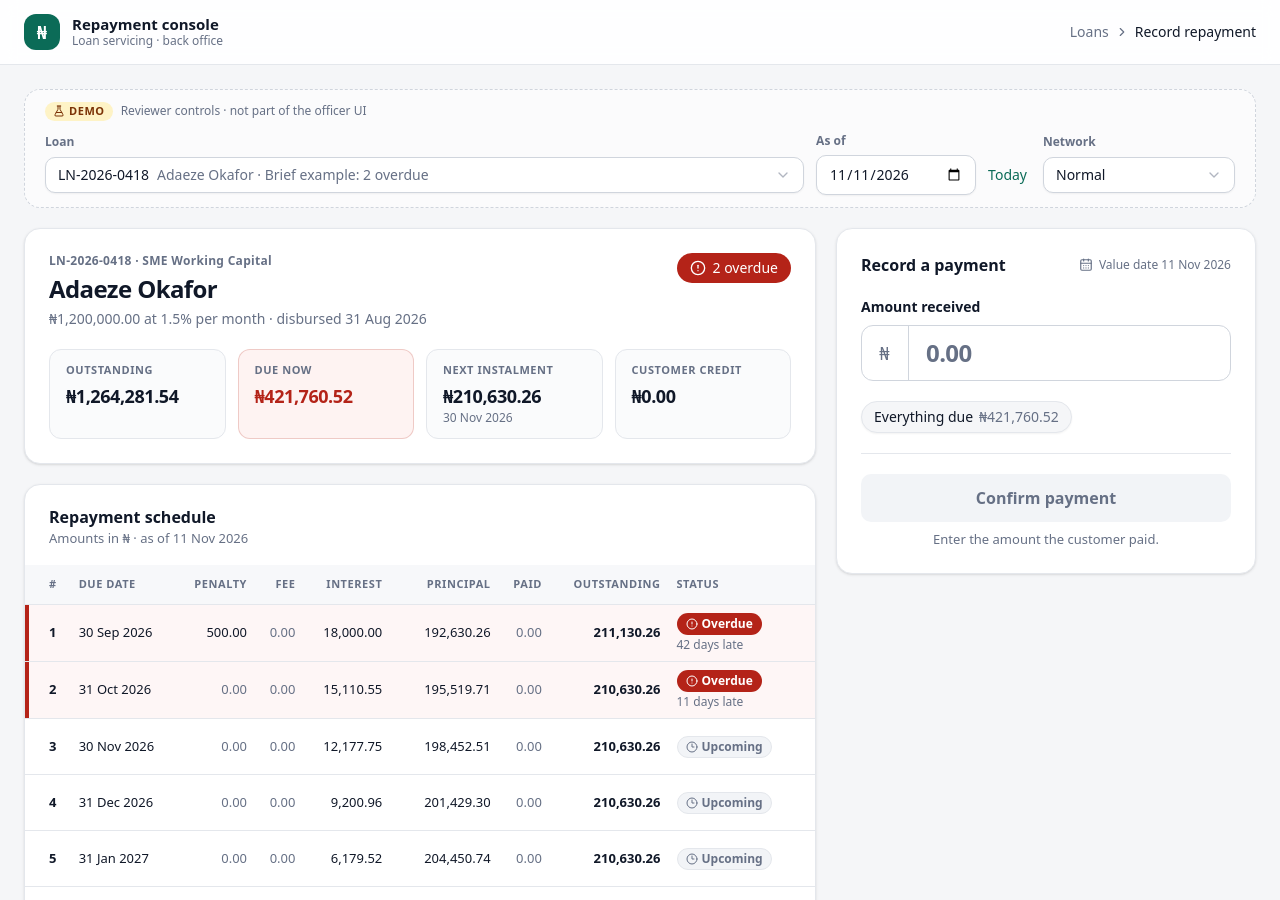
Test: Edge cases › warns that an overpayment becomes unapplied credit and posts it as a liability
Later steps or results of the test are not shown.
Check: the heading "Adaeze Okafor" is shown, box [49,272,217,305]
Type "500000" into the field labelled "Amount received".
click(1046, 353); type("500000")  # box [861,325,1231,381]
(page scrolled)
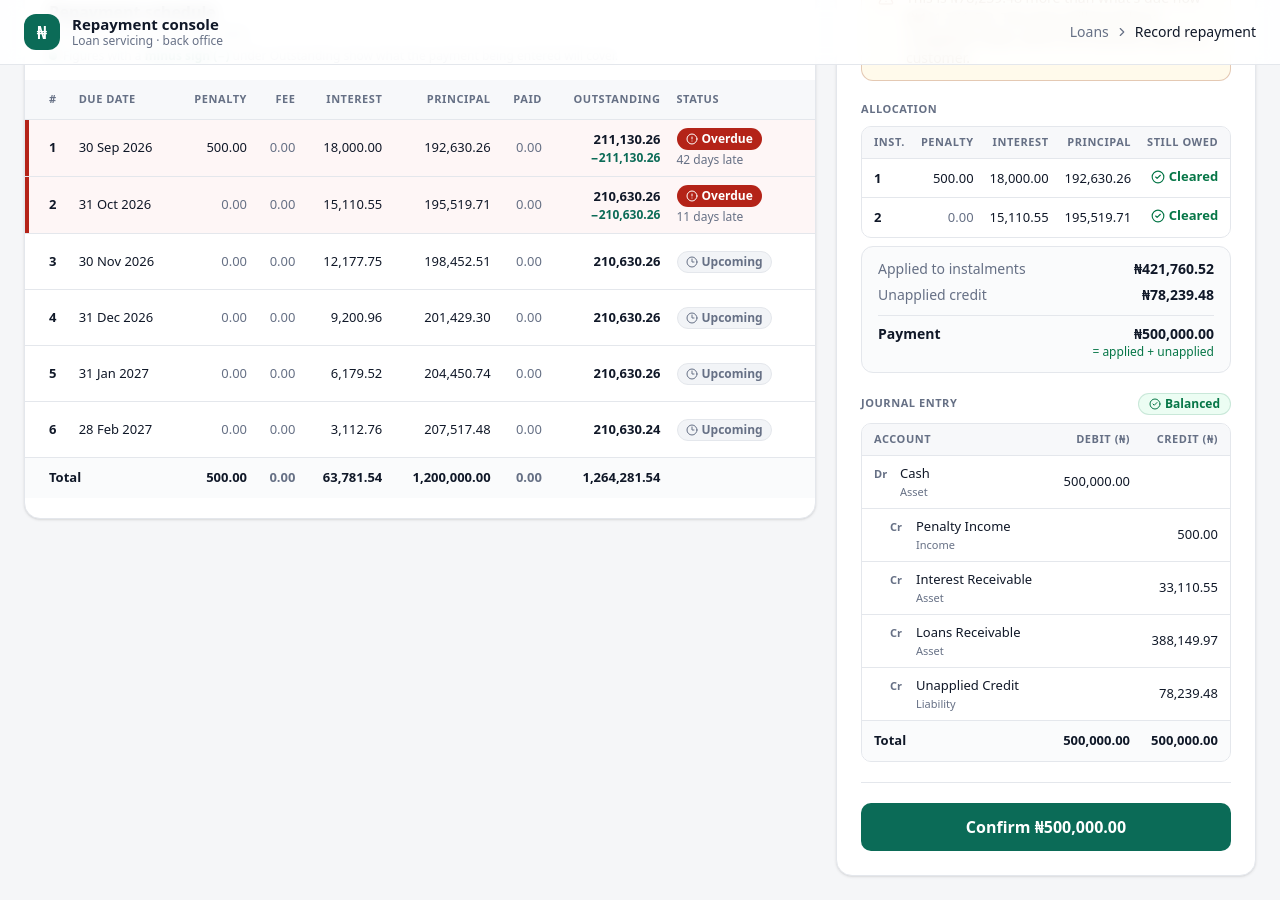
Check: the column heading "Unapplied Credit" is shown, box [916,676,1019,694]
